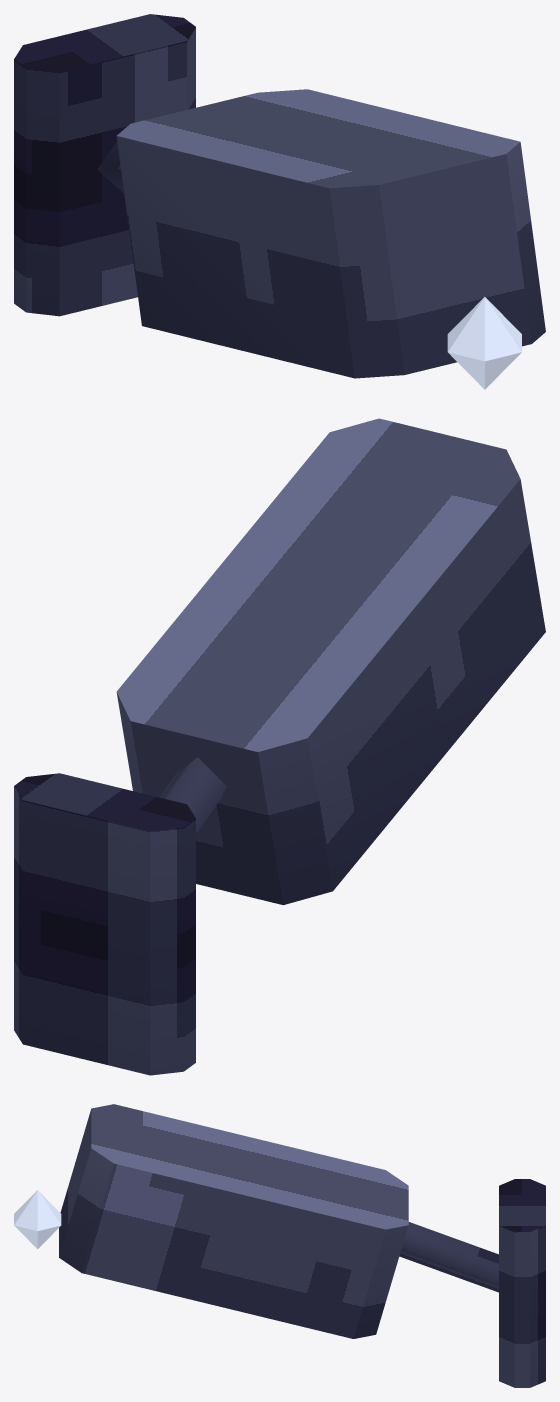
The model's file is cytech.camera.glb.
3 renders of one model, top to bottom at view 1: azimuth 30°, elevation 25°; view 2: azimuth 150°, elevation 25°; view 3: azimuth 270°, elevation 25°, orthographic. The views are drawn at different scales.
Parts seen in each view (by area): view 1: kit_camera, kit_lamp; view 2: kit_camera; view 3: kit_camera, kit_lamp.
Boxes of the visible parts, left/top/right/bottom form: kit_camera: left=14, top=14, right=545, bottom=378; kit_lamp: left=447, top=297, right=521, bottom=389; kit_camera: left=14, top=418, right=545, bottom=1075; kit_camera: left=59, top=1104, right=545, bottom=1387; kit_lamp: left=14, top=1190, right=61, bottom=1249.
Size of the model in its own units: 0.18 by 0.3289 by 0.6803.
Materials: 4 (4 with a texture image).
